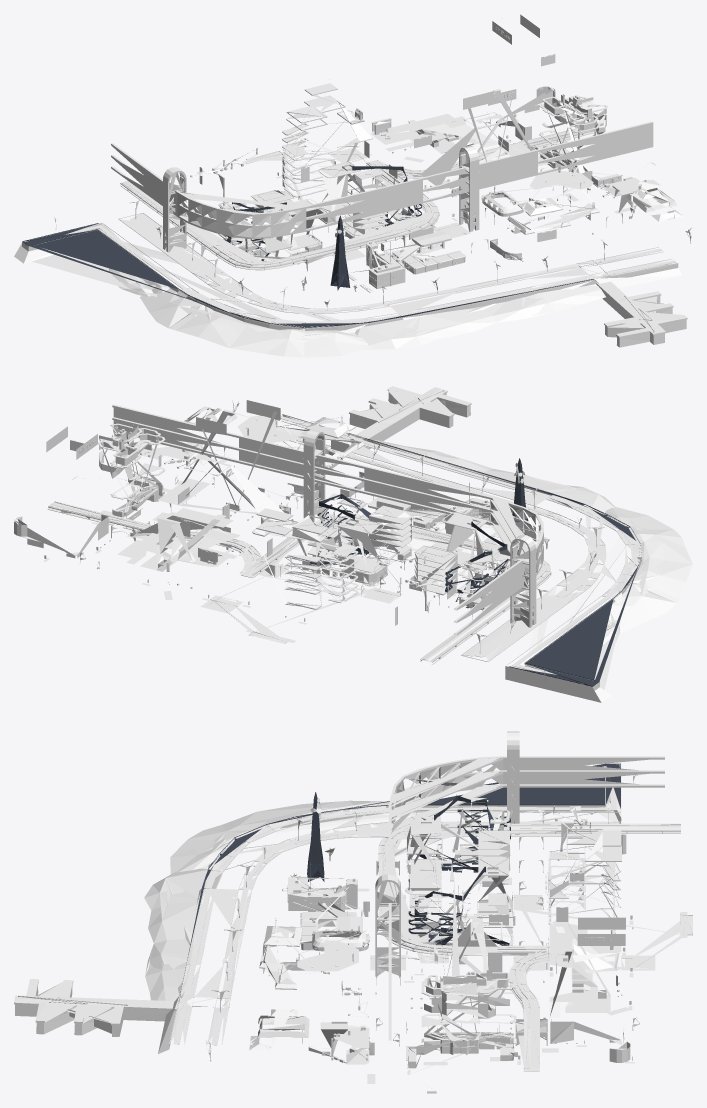
Rendered from street_island1_01.glb.
The picture shows the model from 3 angles, top to bottom: view 1: azimuth 30°, elevation 25°; view 2: azimuth 150°, elevation 25°; view 3: azimuth 270°, elevation 25°; orthographic projection. The views are drawn at different scales.
Visible parts, largest first — view 1: seg_676, seg_692, seg_687, seg_674, seg_1366, seg_1495, seg_682, seg_524, seg_1336, seg_1347, seg_1345, seg_551 (+28 smaller); view 2: seg_687, seg_676, seg_692, seg_551, seg_1495, seg_524, seg_682, seg_1347, seg_1346, seg_521, seg_1345, seg_674 (+30 smaller); view 3: seg_692, seg_674, seg_682, seg_1366, seg_676, seg_687, seg_521, seg_551, seg_1355, seg_524, seg_1336, seg_1495 (+33 smaller).
Part boxes in pixels (x1,y1,x2,y2): seg_676: [59, 253, 372, 357]; seg_692: [269, 247, 681, 333]; seg_687: [14, 213, 290, 327]; seg_674: [355, 285, 605, 349]; seg_1366: [177, 192, 306, 239]; seg_1495: [22, 223, 269, 323]; seg_682: [596, 281, 687, 347]; seg_524: [281, 83, 372, 197]; seg_1336: [366, 230, 465, 288]; seg_1347: [305, 177, 422, 231]; seg_1345: [537, 121, 653, 174]; seg_551: [371, 114, 498, 153]; seg_687: [461, 544, 641, 702]; seg_676: [524, 506, 692, 667]; seg_692: [275, 414, 639, 545]; seg_551: [117, 508, 240, 571]; seg_1495: [509, 545, 641, 686]; seg_524: [252, 508, 358, 609]; seg_682: [349, 386, 471, 449]; seg_1347: [363, 465, 490, 524]; seg_1346: [237, 435, 363, 493]; seg_521: [99, 424, 163, 517]; seg_1345: [112, 404, 238, 462]; seg_674: [363, 440, 614, 512]; seg_692: [158, 825, 299, 1053]; seg_674: [144, 868, 212, 1002]; seg_682: [14, 979, 179, 1036]; seg_1366: [389, 756, 503, 834]; seg_676: [170, 794, 610, 874]; seg_687: [267, 764, 621, 845]; seg_521: [424, 970, 513, 1054]; seg_551: [549, 922, 621, 1017]; seg_1355: [503, 756, 664, 787]; seg_524: [545, 828, 621, 924]; seg_1336: [287, 877, 362, 950]; seg_1495: [267, 763, 620, 824].
Bounding box in the file's own units: 441 × 103 × 379.
